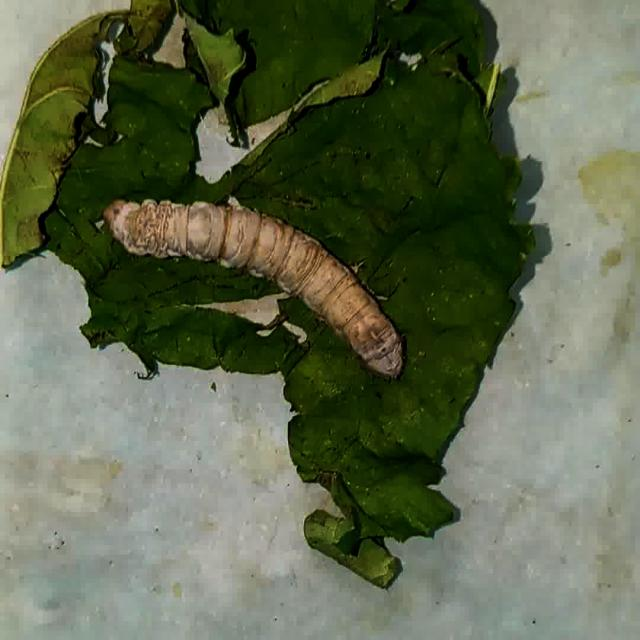Grasserie: (101, 178, 410, 389)
